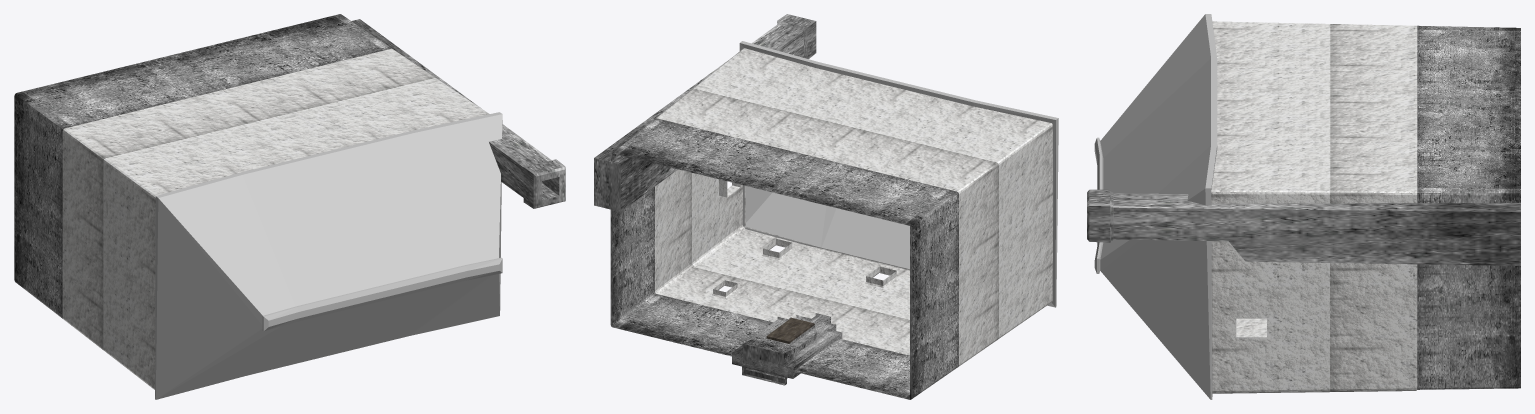
Rendered from hanshaus1k_wtf.obj.
3 renders of one model, left to right at view 1: azimuth 30°, elevation 25°; view 2: azimuth 150°, elevation 25°; view 3: azimuth 270°, elevation 25°, orthographic. The views are drawn at different scales.
Parts seen in each view (by area): view 1: group7, group14, group3, group8, group5; view 2: group14, group3, group7, group5, group15, group10, group8; view 3: group14, group3, group5, group7, group8.
Boxes of the visible parts, x1,y1,x2,y2 form: group7: [155, 112, 502, 399]; group14: [62, 48, 489, 389]; group3: [14, 14, 392, 318]; group8: [155, 120, 502, 399]; group5: [351, 19, 565, 208]; group14: [655, 48, 1052, 366]; group3: [610, 118, 958, 399]; group7: [739, 41, 1058, 307]; group5: [594, 14, 816, 211]; group15: [732, 313, 842, 378]; group10: [766, 317, 814, 343]; group8: [745, 186, 772, 222]; group14: [1211, 21, 1417, 393]; group3: [1417, 25, 1520, 389]; group5: [1087, 189, 1520, 265]; group7: [1094, 14, 1217, 399]; group8: [1100, 189, 1210, 399].
Bounding box in the file's own units: 645 × 375 × 660.
